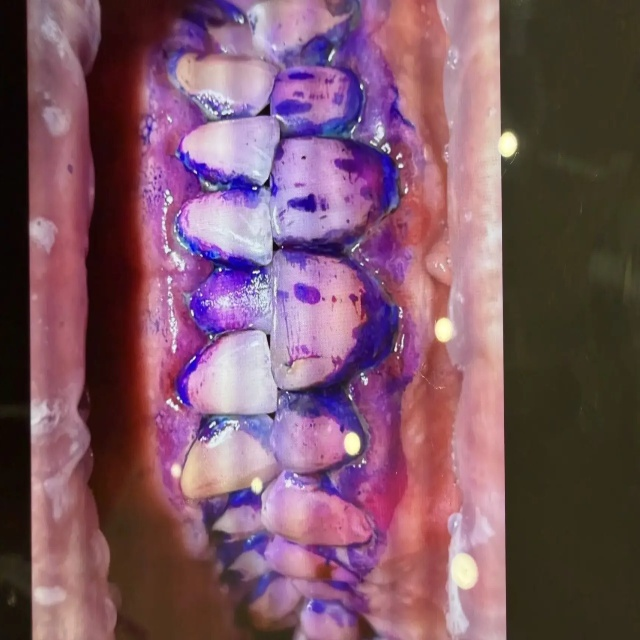clean_tooth: (486, 118, 517, 181), (452, 553, 476, 588)
plaque: (159, 0, 389, 639)
